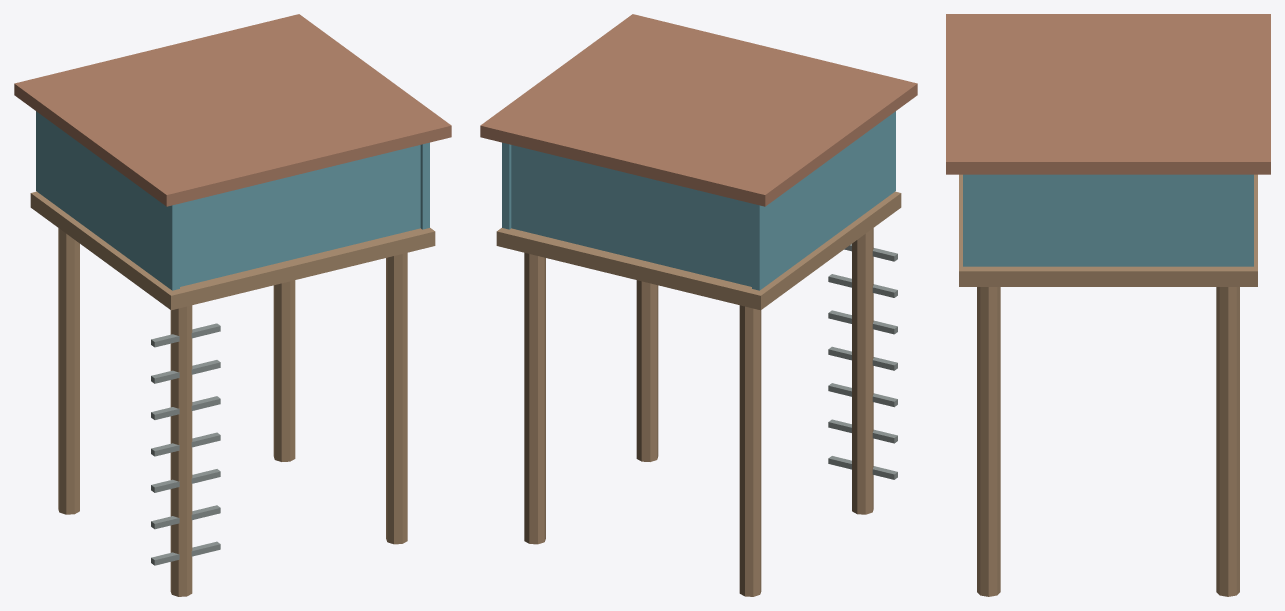
The model's file is town_watch_post.glb.
3 views of the same model, side by side, from view 1: azimuth 30°, elevation 25°; view 2: azimuth 150°, elevation 25°; view 3: azimuth 270°, elevation 25° (orthographic). The views are drawn at different scales.
Parts seen in each view (by area): view 1: watch roof, platform rail.003, platform rail, FLOOR_watch platform, watchtower leg.003, watchtower leg.001, watchtower leg, watchtower leg.002, platform rail.001; view 2: watch roof, platform rail.002, platform rail, FLOOR_watch platform, watchtower leg, watchtower leg.002, watchtower leg.001, watchtower leg.003, platform rail.001; view 3: watch roof, platform rail.001, watchtower leg.002, watchtower leg.003, FLOOR_watch platform.
Boxes of the visible parts, x1,y1,x2,y2 form: watch roof: [14, 14, 451, 206]; platform rail.003: [180, 145, 420, 286]; platform rail: [36, 111, 179, 290]; FLOOR_watch platform: [30, 191, 435, 310]; watchtower leg.003: [386, 252, 407, 544]; watchtower leg.001: [170, 305, 192, 596]; watchtower leg: [58, 228, 79, 514]; watchtower leg.002: [273, 280, 295, 461]; platform rail.001: [420, 142, 429, 229]; watch roof: [480, 14, 917, 206]; platform rail.002: [511, 145, 751, 286]; platform rail: [752, 111, 895, 290]; FLOOR_watch platform: [496, 191, 901, 310]; watchtower leg: [739, 305, 761, 596]; watchtower leg.002: [524, 252, 545, 544]; watchtower leg.001: [852, 228, 873, 514]; watchtower leg.003: [636, 280, 658, 461]; platform rail.001: [502, 142, 511, 229]; watch roof: [946, 14, 1270, 174]; platform rail.001: [963, 174, 1253, 266]; watchtower leg.002: [1216, 287, 1239, 596]; watchtower leg.003: [977, 287, 1000, 596]; FLOOR_watch platform: [959, 174, 1257, 286].
Bounding box in the file's own units: 4.1 × 5.78 × 3.8.
